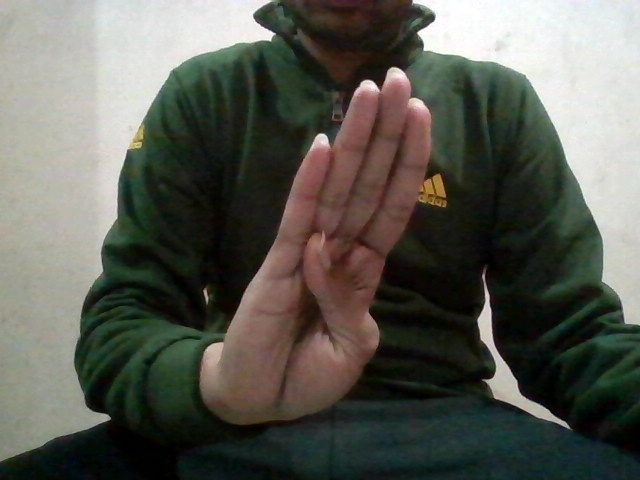B: (213, 64, 433, 425)
